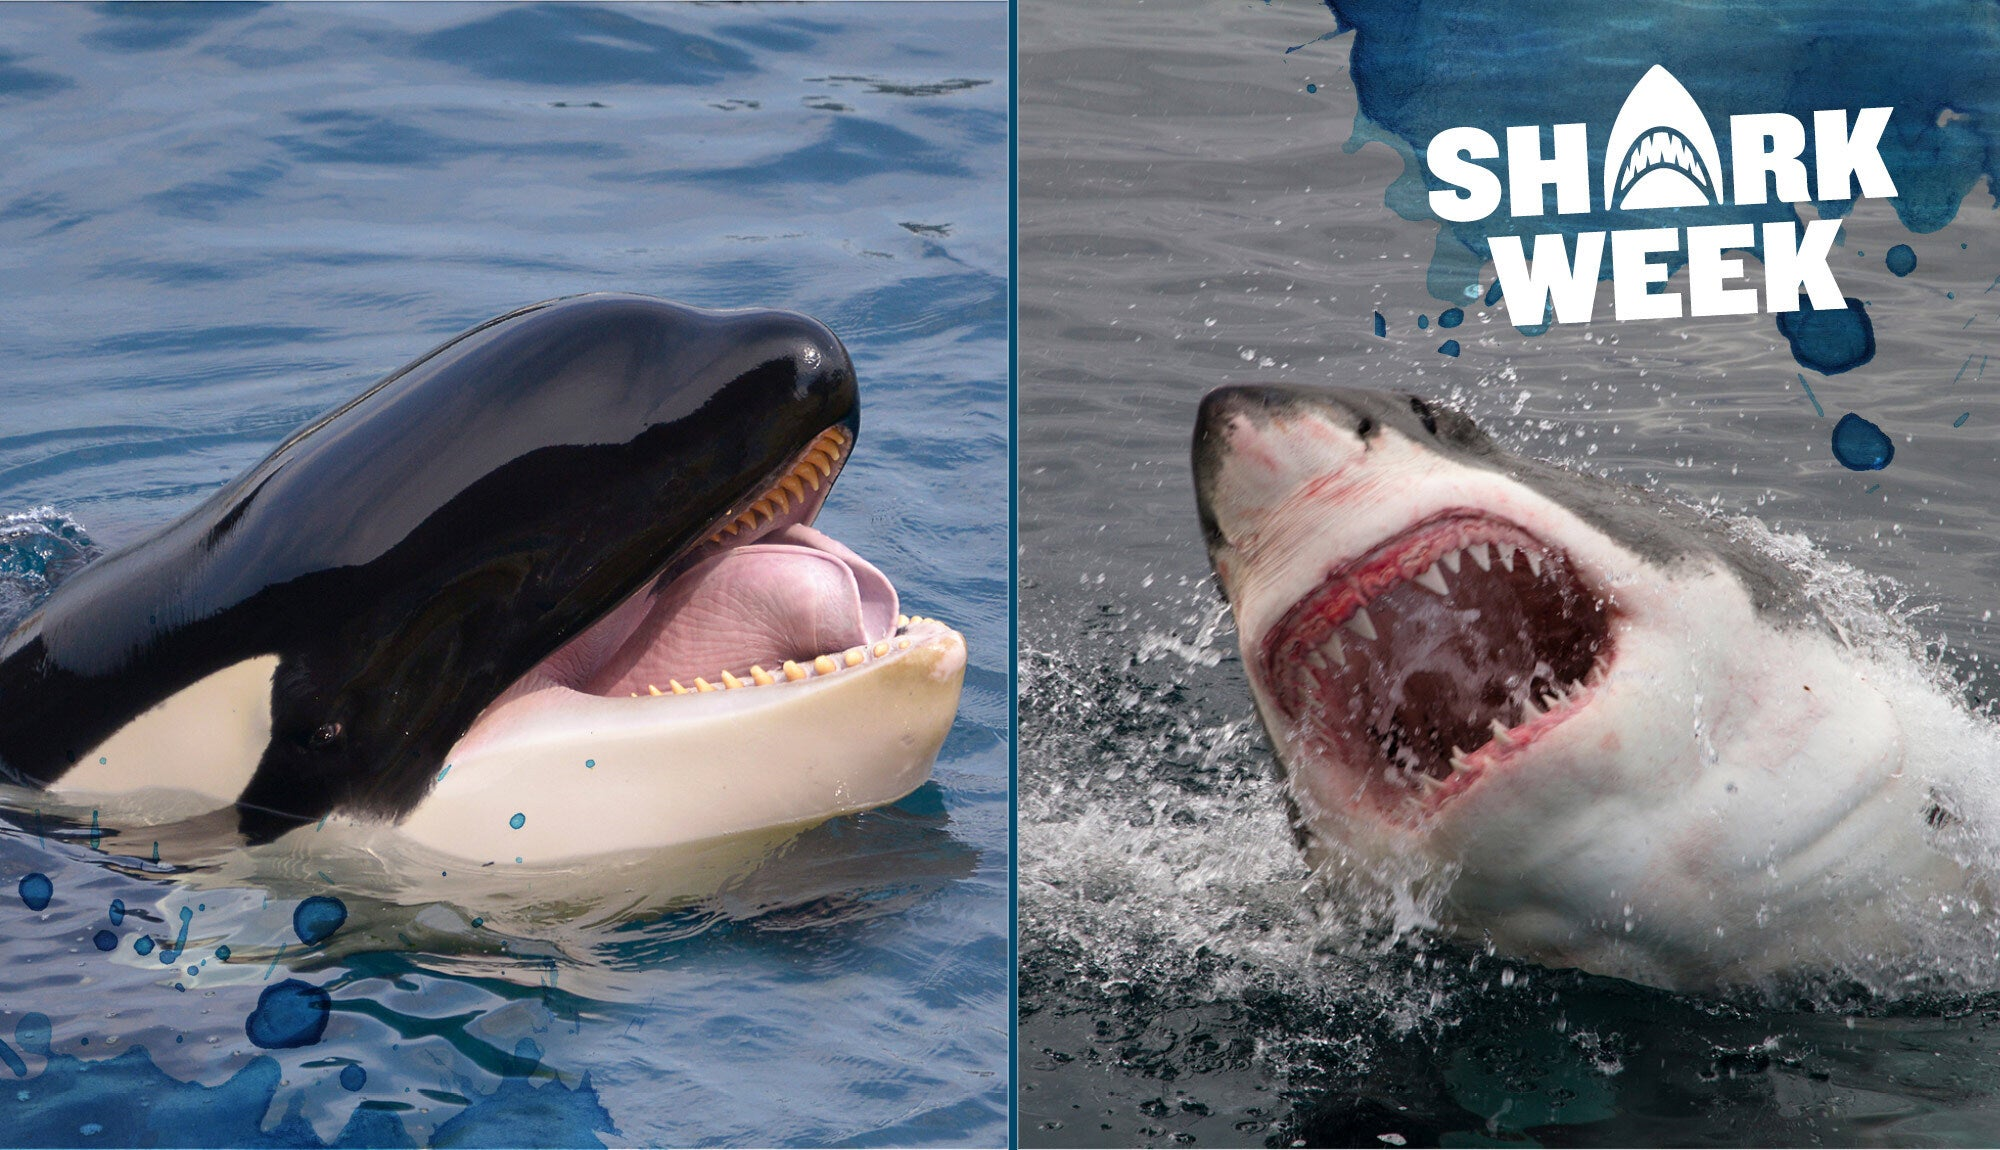Shark: (1196, 383, 2000, 1011)
